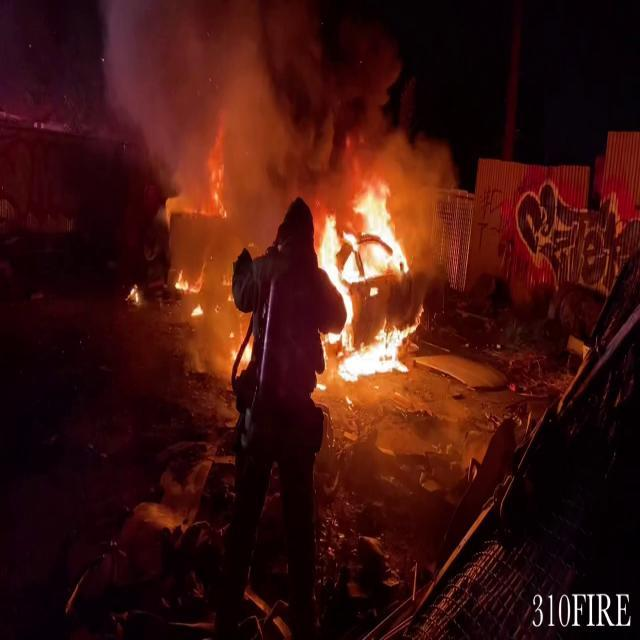Fire: (310, 178, 424, 384)
Smoke: (84, 0, 440, 172)
